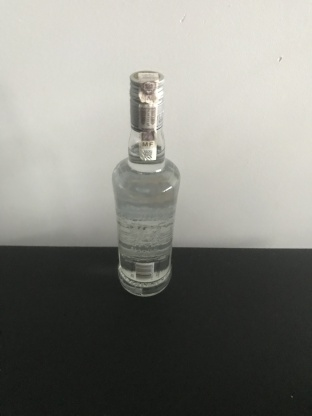nakretka: (128, 68, 166, 133)
